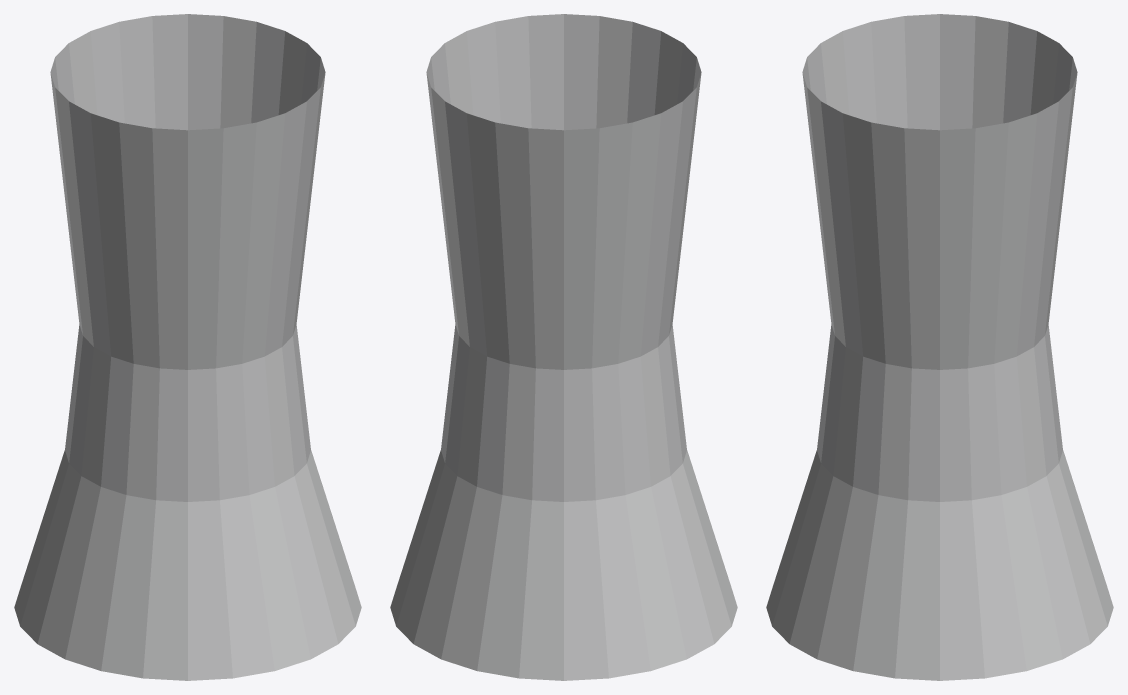
The picture shows the model from 3 angles, left to right: view 1: azimuth 30°, elevation 25°; view 2: azimuth 150°, elevation 25°; view 3: azimuth 270°, elevation 25°; orthographic projection.
Bounding box in the file's own units: 0.48 × 0.816 × 0.48.
1 material, 1 textured.
